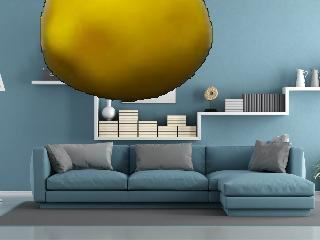lemon: (42, 0, 212, 102)
